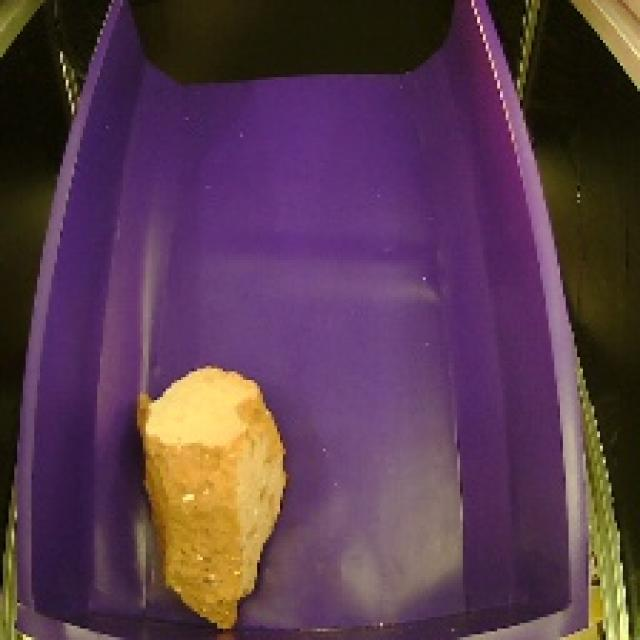brick: (124, 355, 292, 640)
